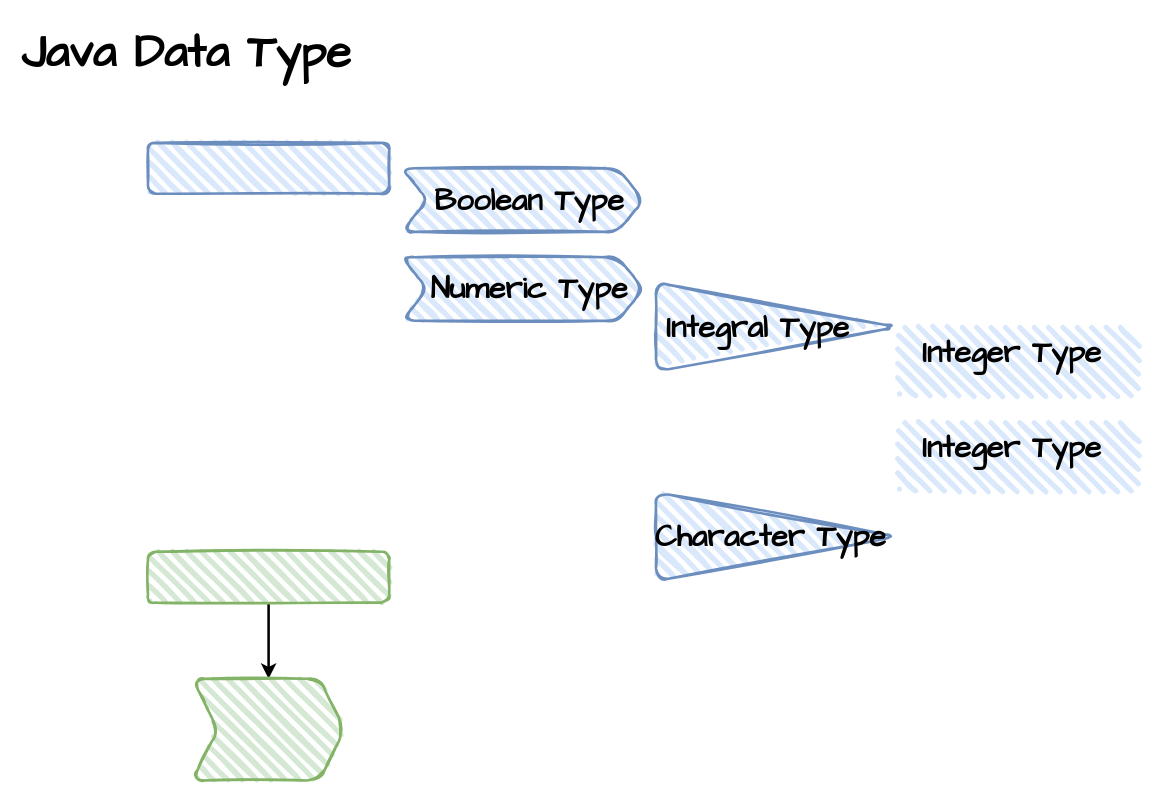
Image size: 1161x804. Some labels were removed from this diagram. The centre of each missing label's shape, as x and y in pixels:
"Primitive Type" belongs at pixel 268 167.
"Reference Type" belongs at pixel 268 576.
